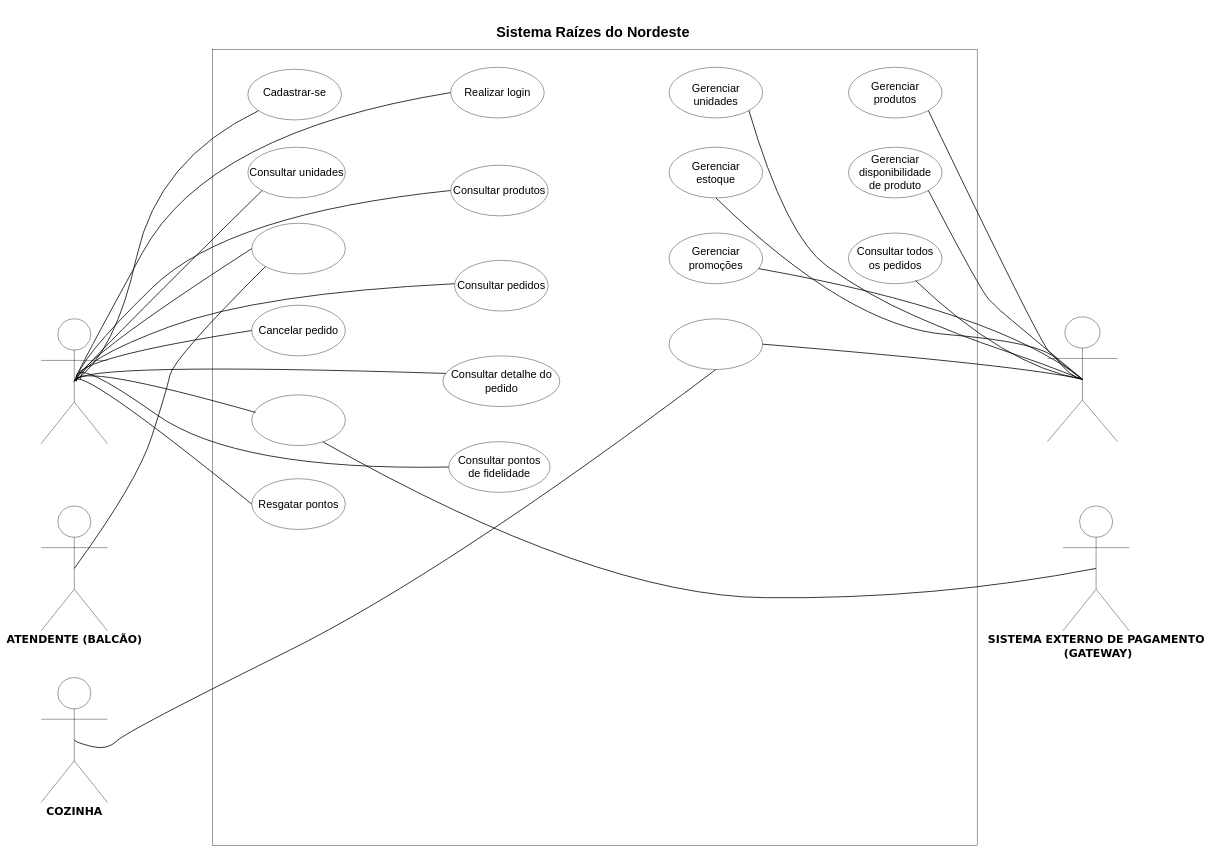
Image size: 1211x852. Some labels were removed from this diagram. Here are the shapes that lost their labels. From the top down, the box of each, then its label:
(251, 223, 345, 274): Realizar pedido
(669, 318, 763, 370): Atualizar status do pedido
(41, 318, 107, 444): CLIENTE
(1047, 316, 1118, 442): GERENTE / ADMINISTRADOR
(251, 394, 345, 446): Realizar pagamento
